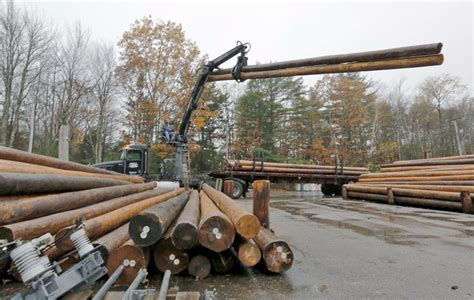pole: (198, 43, 448, 73)
